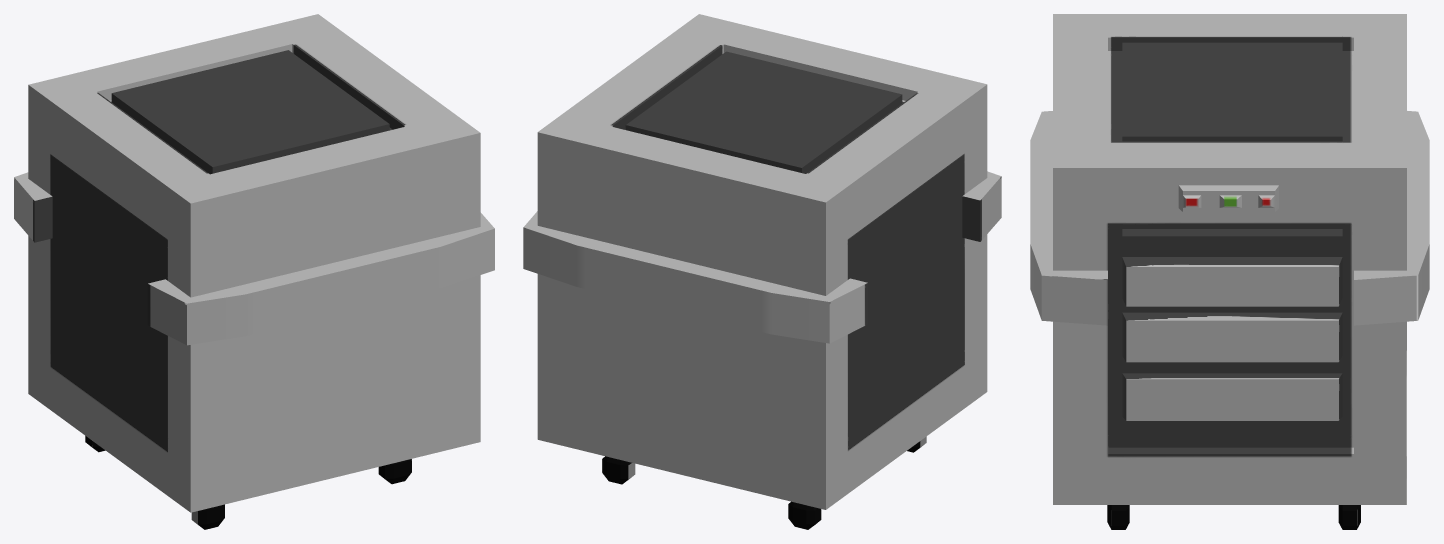
Rendered from Rollcage.fbx.
3 views of the same model, side by side, from view 1: azimuth 30°, elevation 25°; view 2: azimuth 150°, elevation 25°; view 3: azimuth 270°, elevation 25° (orthographic). The views are drawn at different scales.
Visible parts, largest first — view 1: pCube7; view 2: pCube7; view 3: pCube7.
Boxes of the visible parts, <box> form: pCube7: <box>14,14,494,529</box>; pCube7: <box>523,14,1001,529</box>; pCube7: <box>1030,14,1429,529</box>.
Bounding box in the file's own units: 0.6521 × 0.6805 × 0.6348.
Materials: 1 (1 with a texture image).
